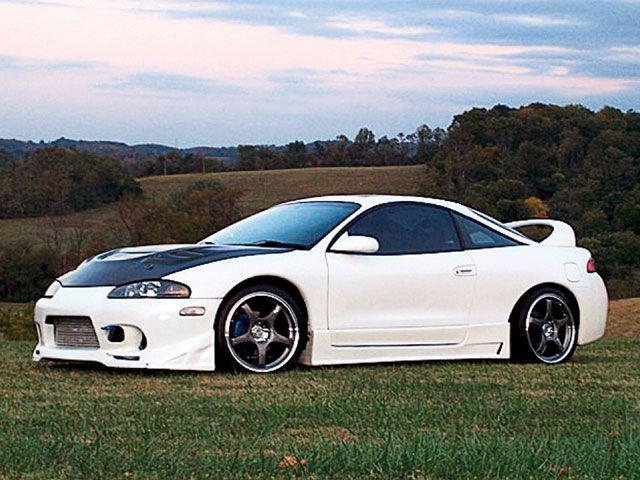Car: (1, 163, 629, 428)
